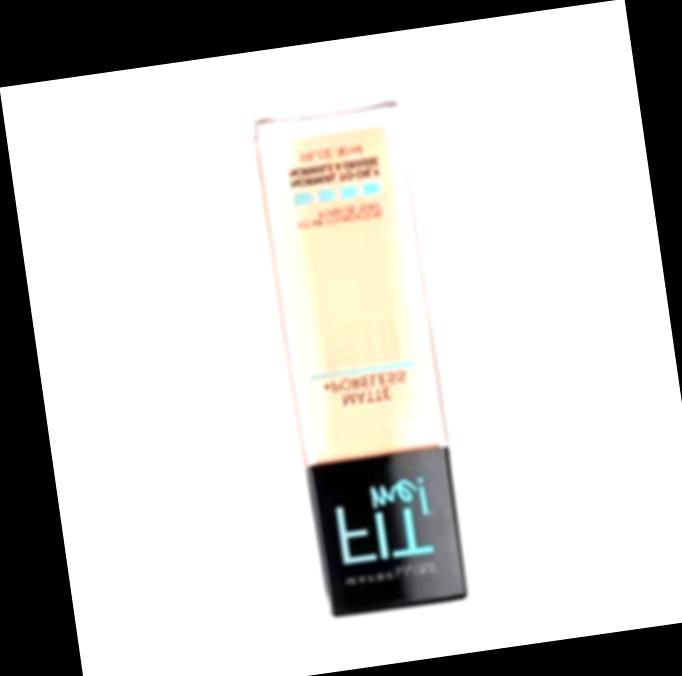cosmetic: (257, 89, 471, 619)
